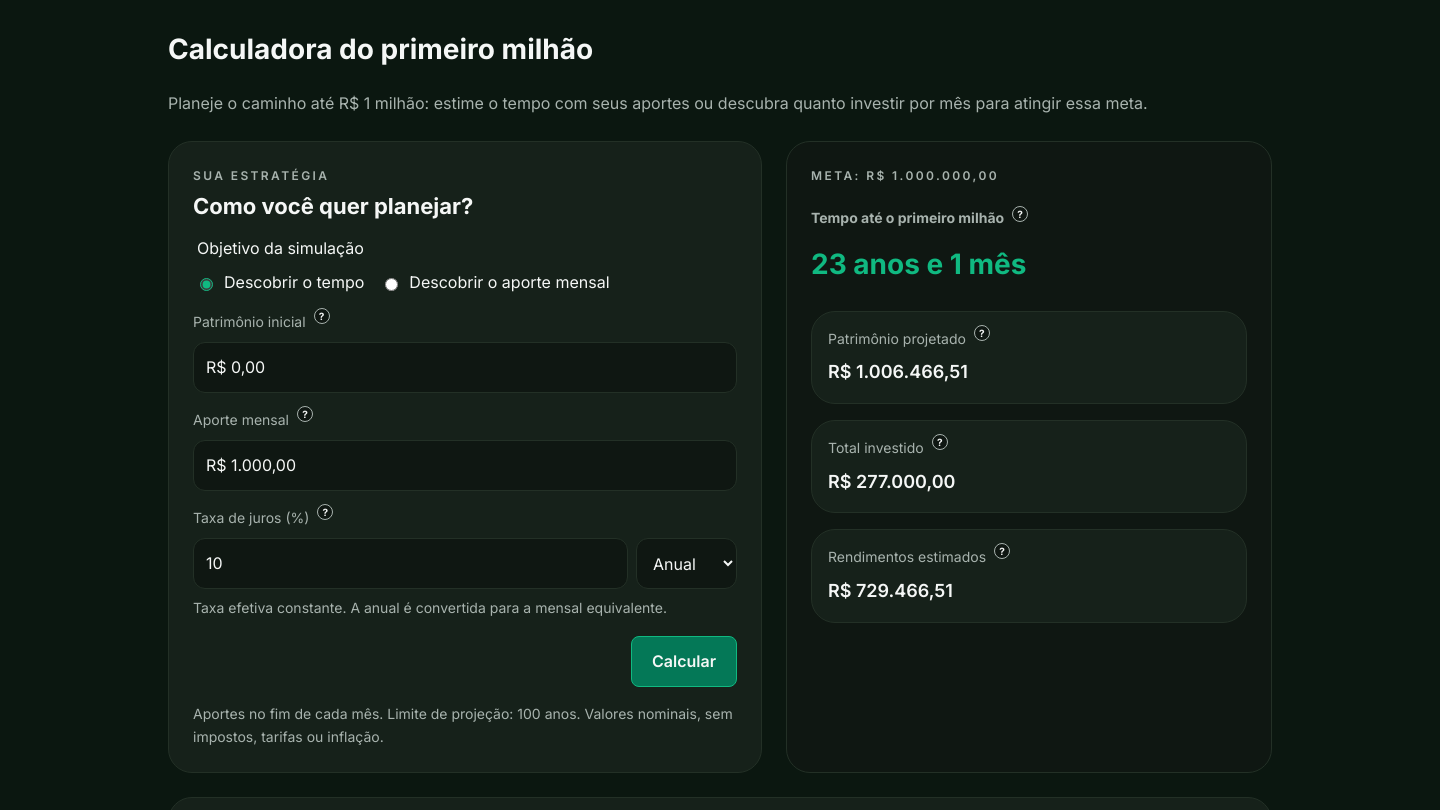
Test: FirstMillionCalculator › calculates the required contribution and converts the deadline unit
Step 1. Click the radio button labelled "Descobrir o aporte mensal" → (392, 284), box [385, 278, 398, 291]
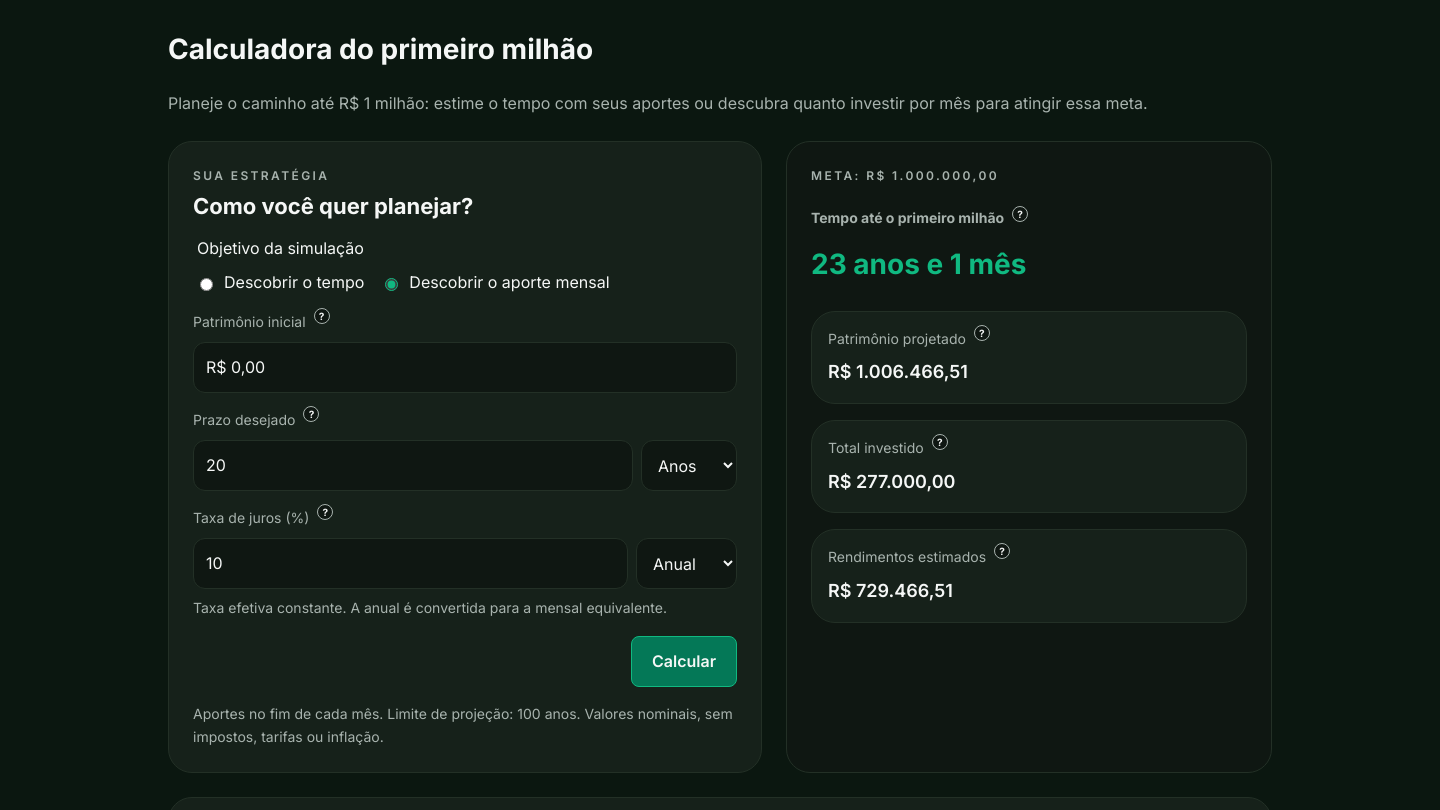
Step 2. Replace the text in the field labelled "Taxa de juros (%)" with "0" → (410, 564), box [193, 538, 628, 589]
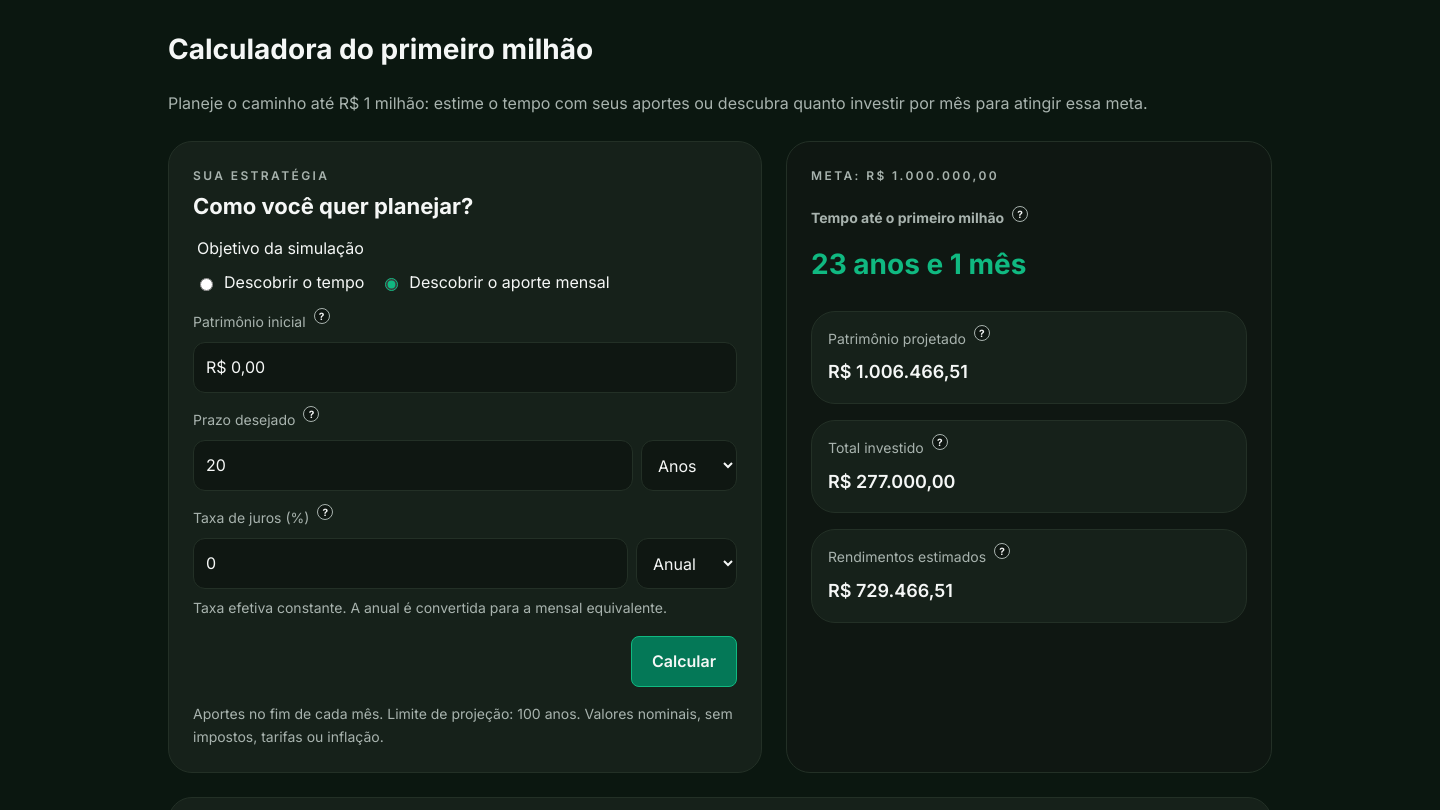
Step 3. Replace the text in the field labelled "Prazo desejado" with "10" → (413, 466), box [193, 440, 633, 491]
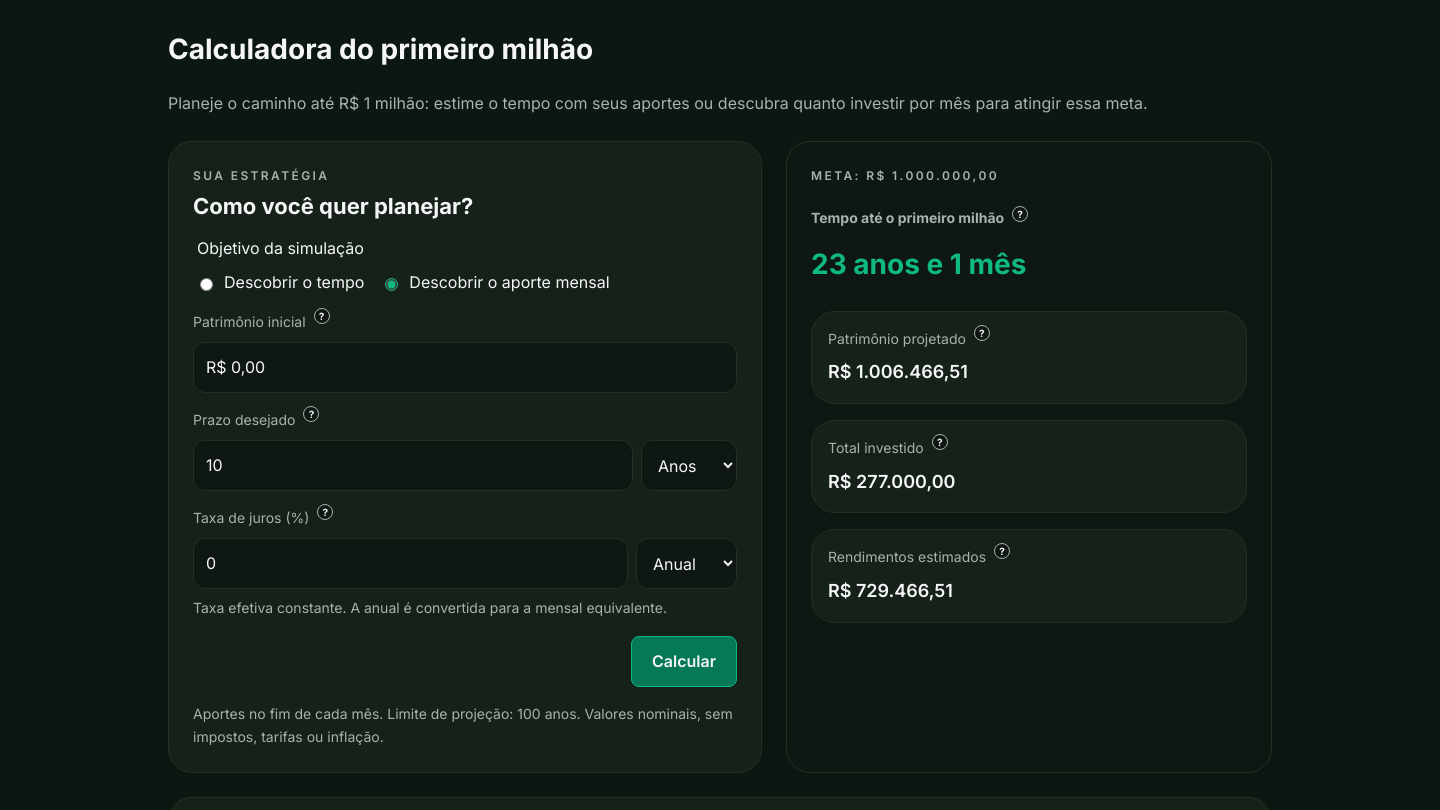
Step 4. Click the button "Calcular" → (684, 662), box [631, 636, 737, 687]
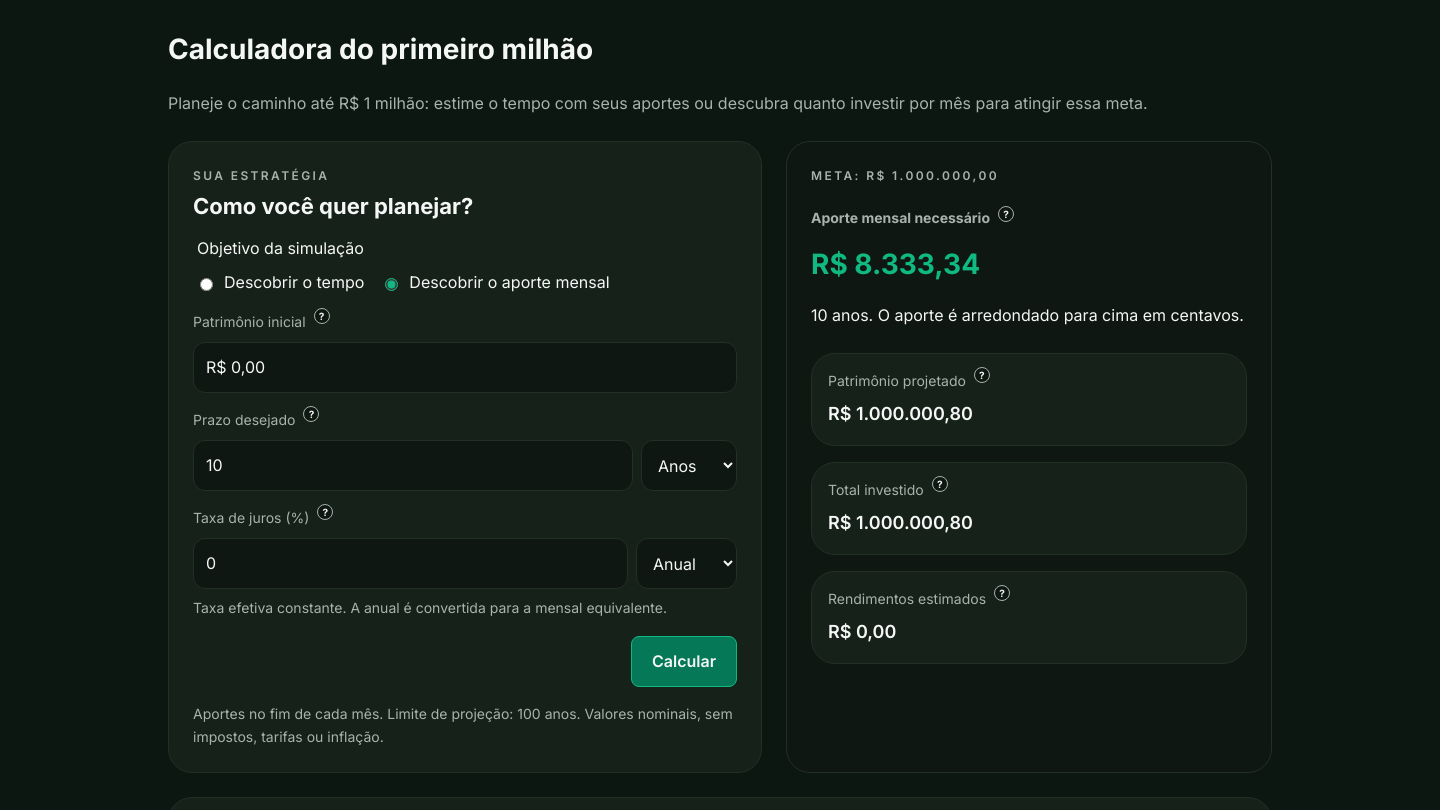
Expected: the text "R$ 8.333,34" is shown, [811, 247, 980, 281]
Step 5. Select "Meses" in the dropdown named "Unidade do prazo" → (689, 466), box [641, 440, 737, 491]
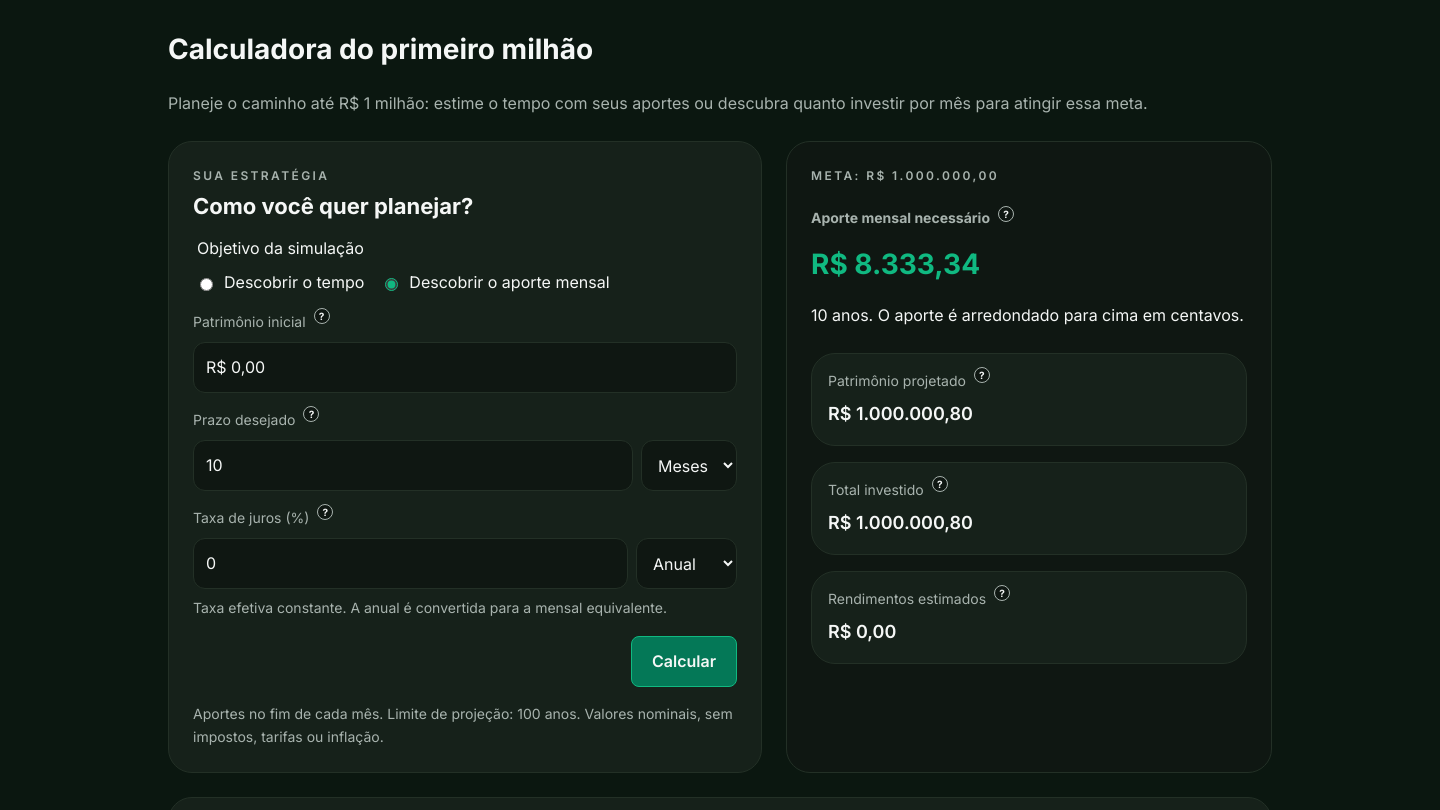
Step 6. Click the button "Calcular" → (684, 662), box [631, 636, 737, 687]
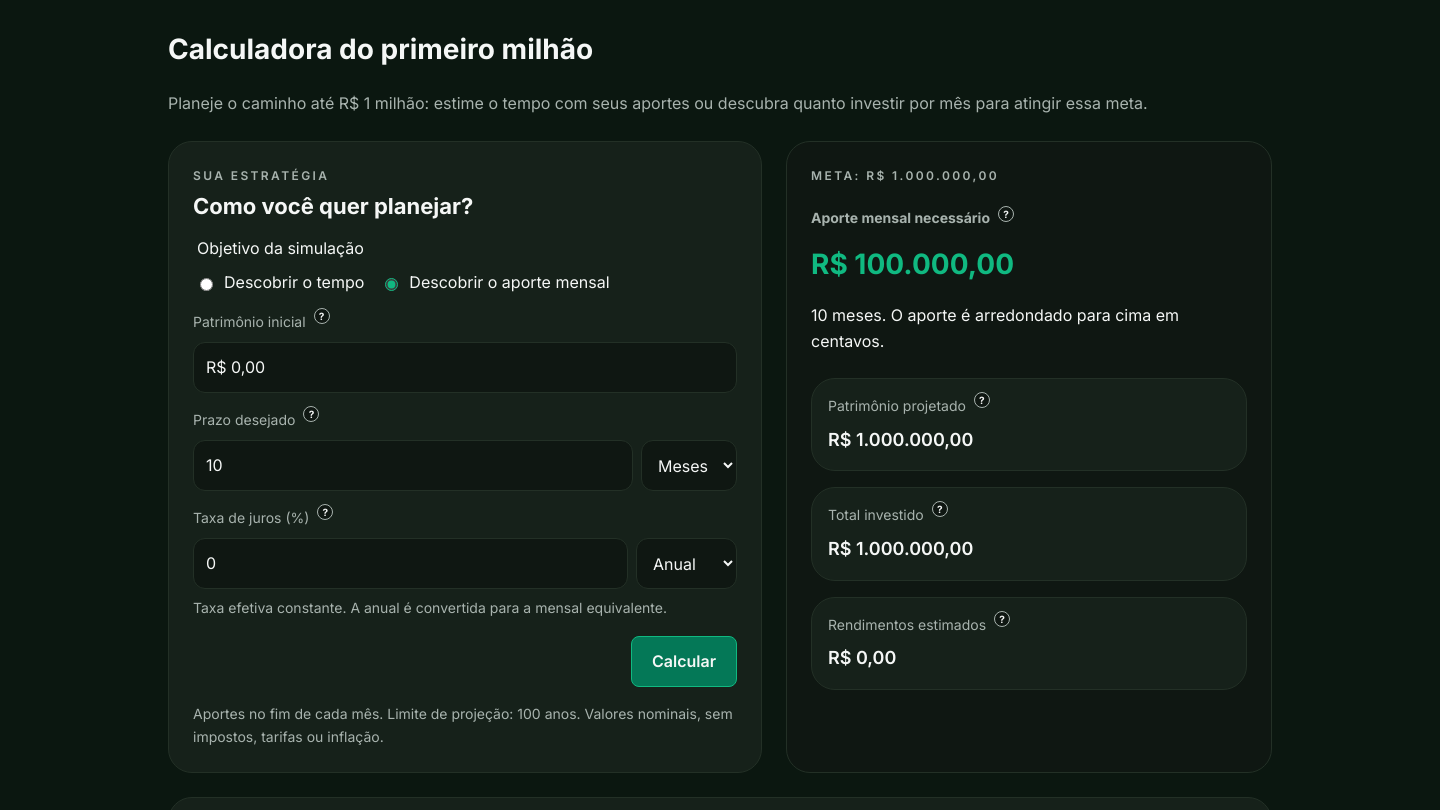
Expected: the text "R$ 100.000,00" is shown, [811, 247, 1014, 281]
